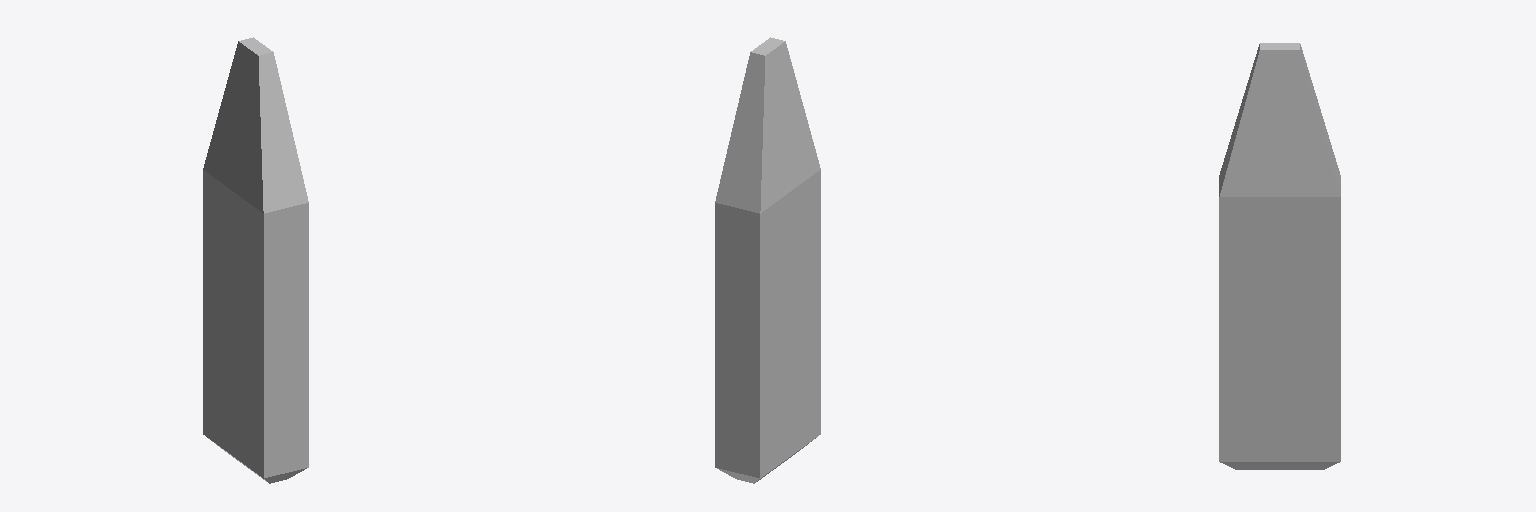
File: BattleshipCalf.obj
3 renders of one model, left to right at view 1: azimuth 30°, elevation 25°; view 2: azimuth 150°, elevation 25°; view 3: azimuth 270°, elevation 25°, orthographic.
Parts seen in each view (by area): view 1: Cube_Cube.006; view 2: Cube_Cube.006; view 3: Cube_Cube.006.
Boxes of the visible parts, <box> form: Cube_Cube.006: <box>203,37,308,483</box>; Cube_Cube.006: <box>715,37,820,483</box>; Cube_Cube.006: <box>1219,43,1340,469</box>.
Size of the model in its own units: 0.5184 by 4.57 by 1.2.